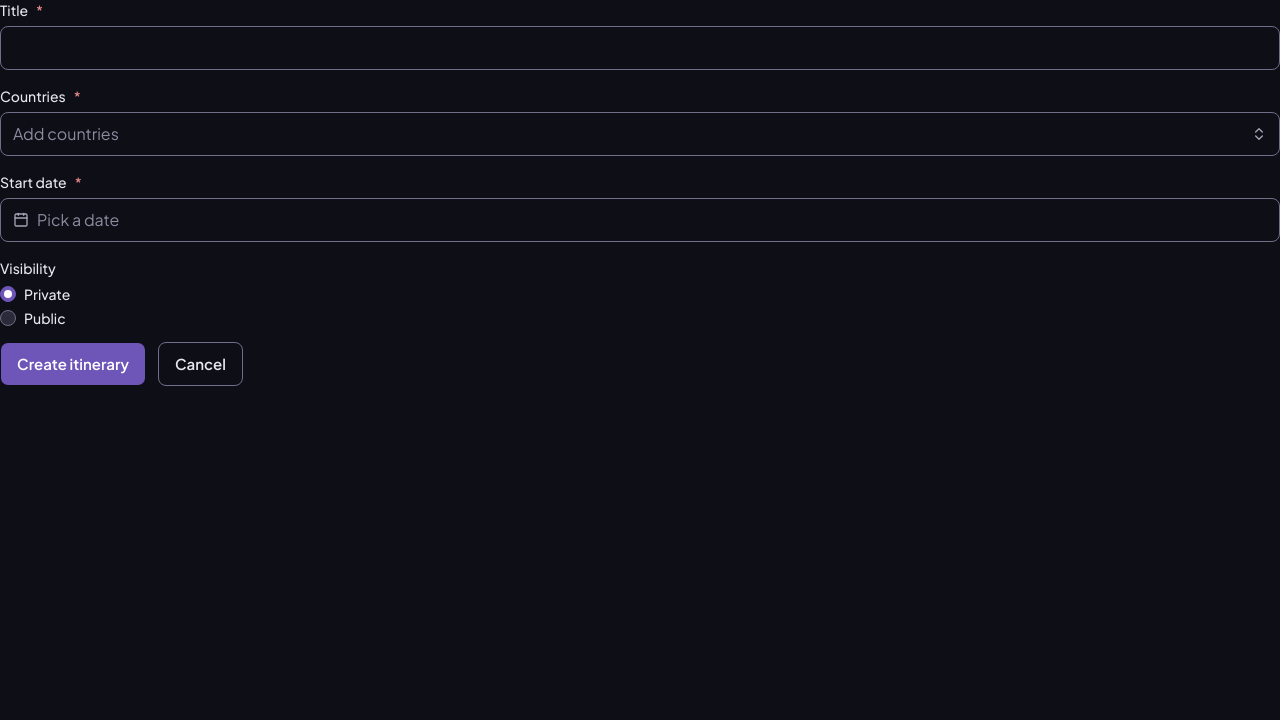
the country list offers exactly the predefined countries given to the form
Click the button "Add countries" at x=66, y=134, box [0,112,1279,156]
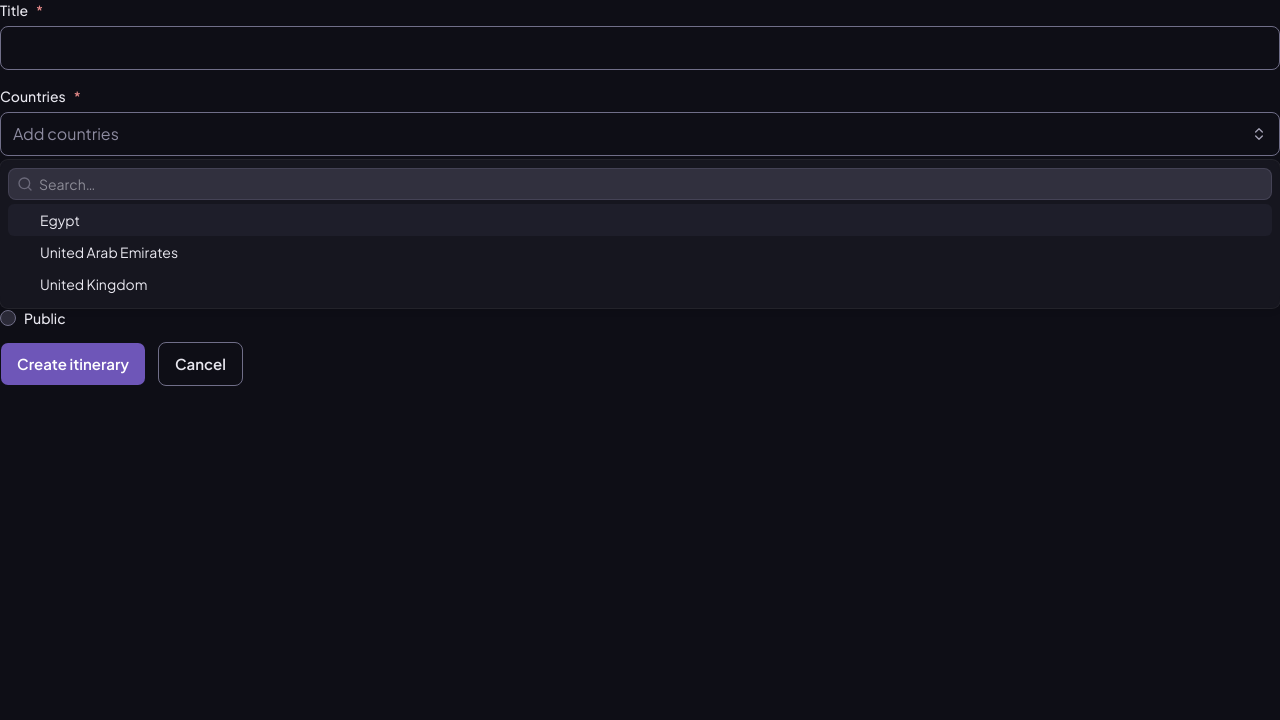
Expected: the options read "Egypt", "United Arab Emirates", "United Kingdom", in this order, [8,204,1272,236]; [40,243,178,261]; [40,275,147,293]
